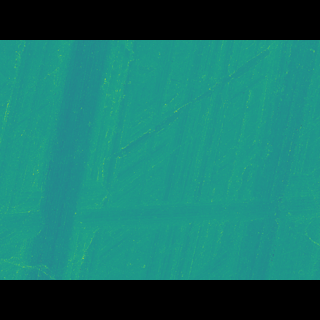Loch: (65, 68, 146, 249), (0, 183, 320, 225)
